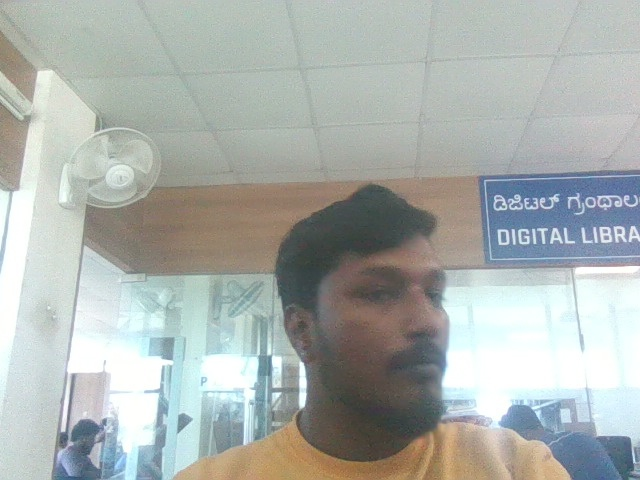real: (291, 166, 469, 419)
